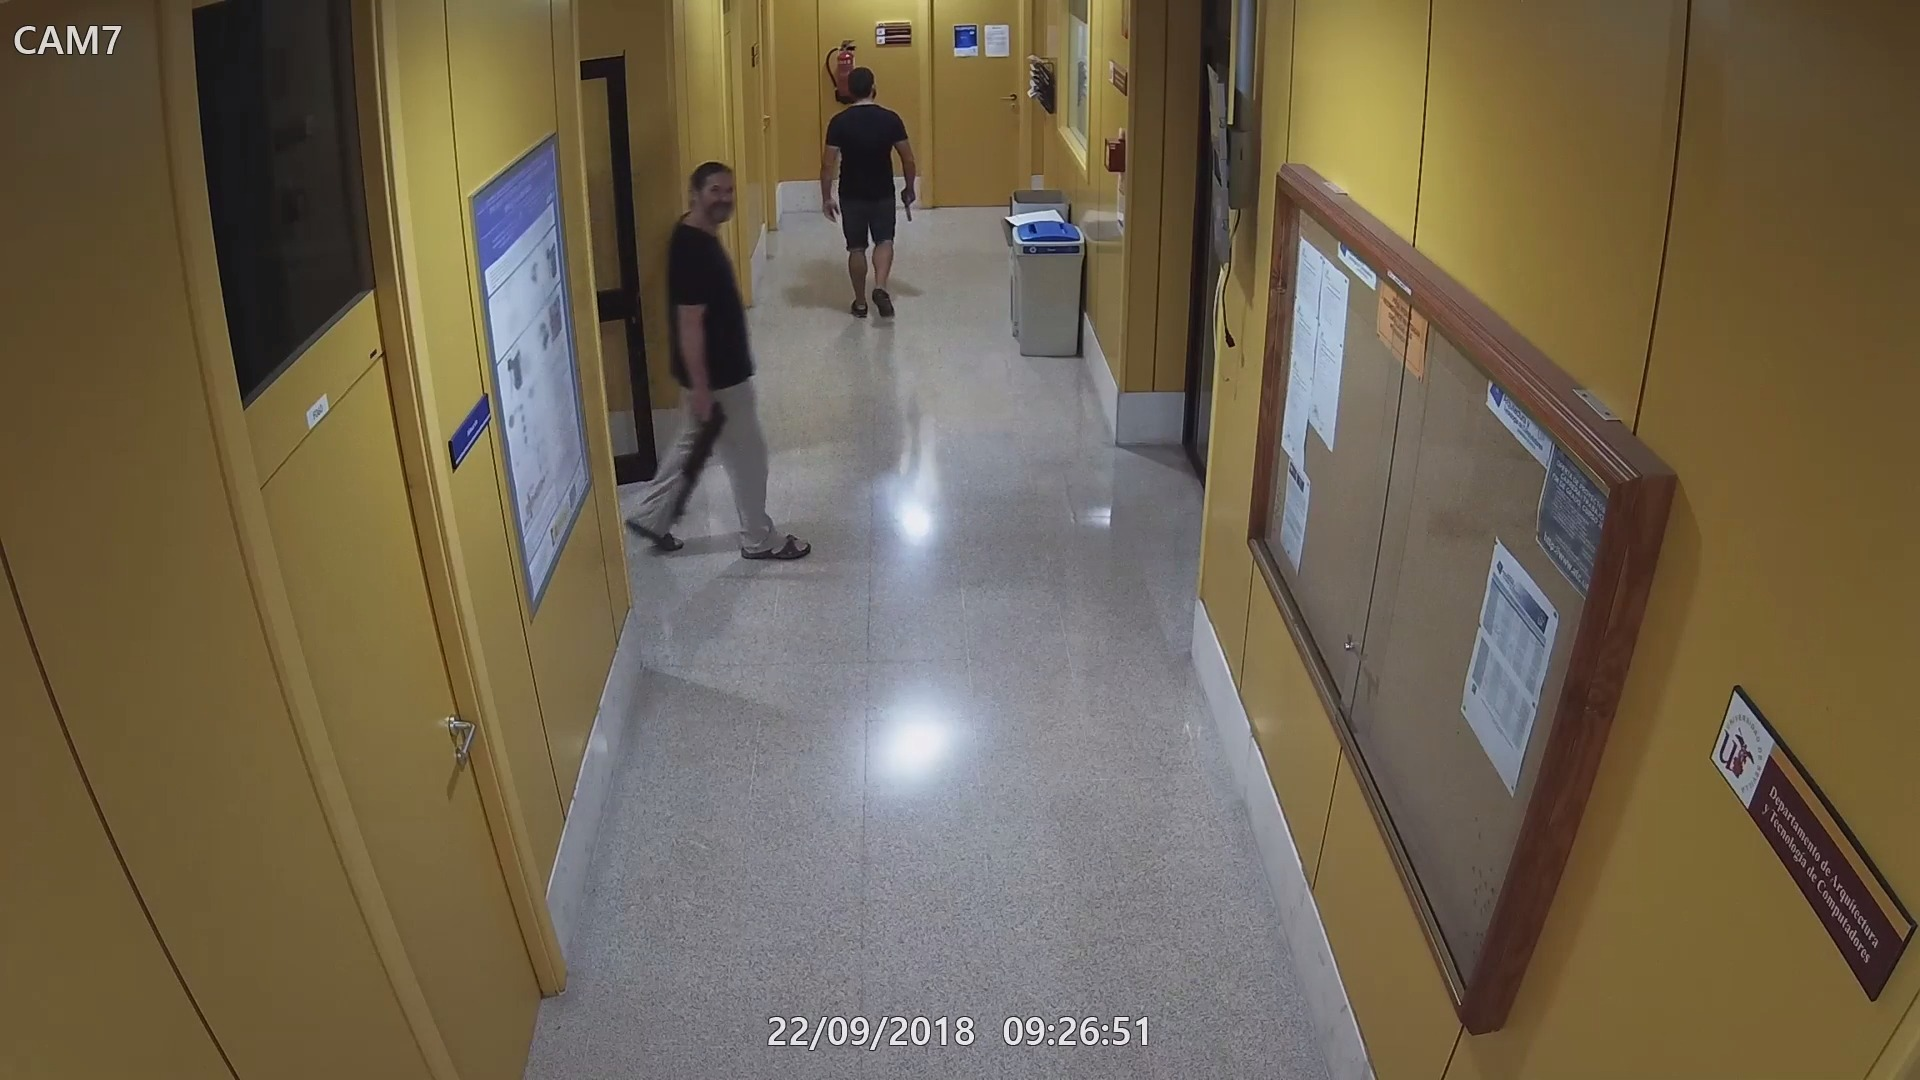Handgun: (895, 185, 922, 223)
Short_rifle: (663, 389, 729, 534)
